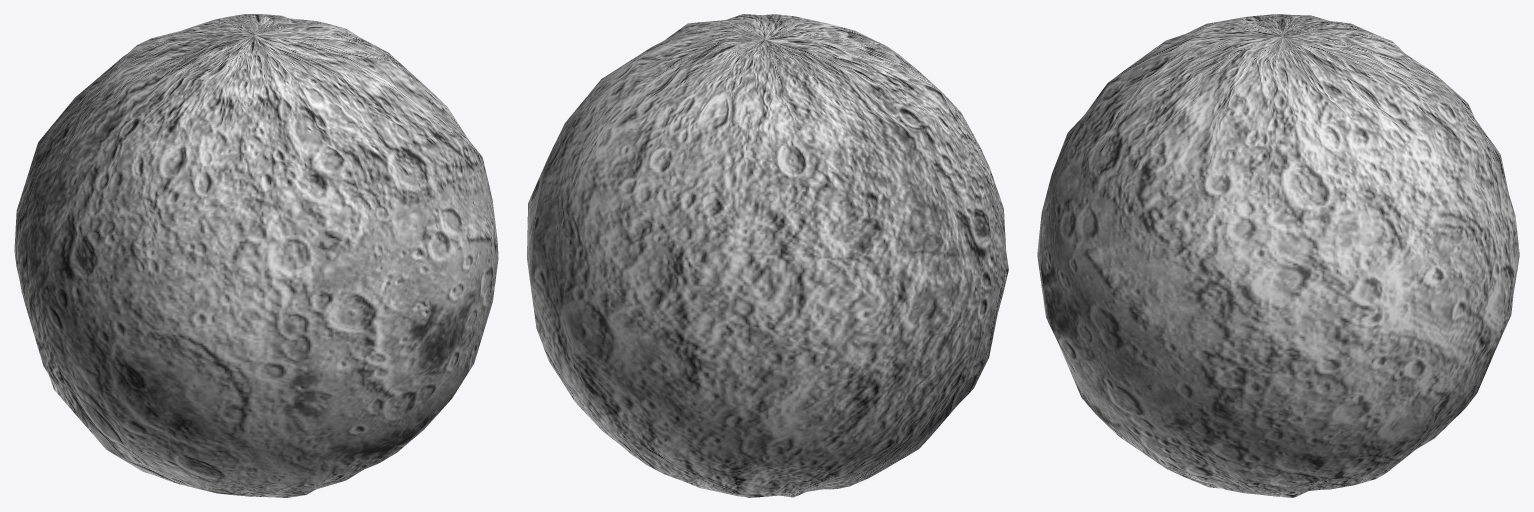
File: Moonnn.fbx_Scene.fbx
3 renders of one model, left to right at view 1: azimuth 30°, elevation 25°; view 2: azimuth 150°, elevation 25°; view 3: azimuth 270°, elevation 25°, orthographic.
Parts seen in each view (by area): view 1: Sphere; view 2: Sphere; view 3: Sphere.
Part boxes in pixels (<box>): Sphere: <box>14,14,498,497</box>; Sphere: <box>527,14,1008,497</box>; Sphere: <box>1037,14,1519,497</box>.
Bounding box in the file's own units: 2179 × 2173 × 2167.
Materials: 1 (1 with a texture image).
